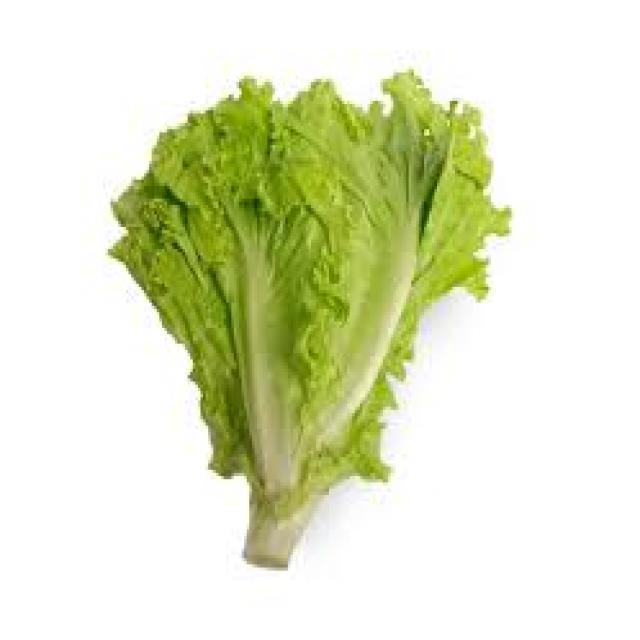Lettuce: (119, 73, 508, 560)
